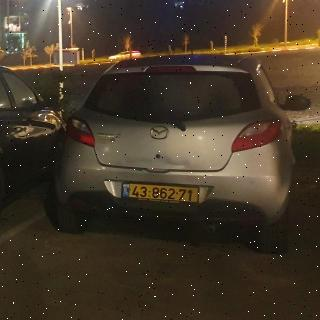LicensePlate: (129, 184, 198, 202)
